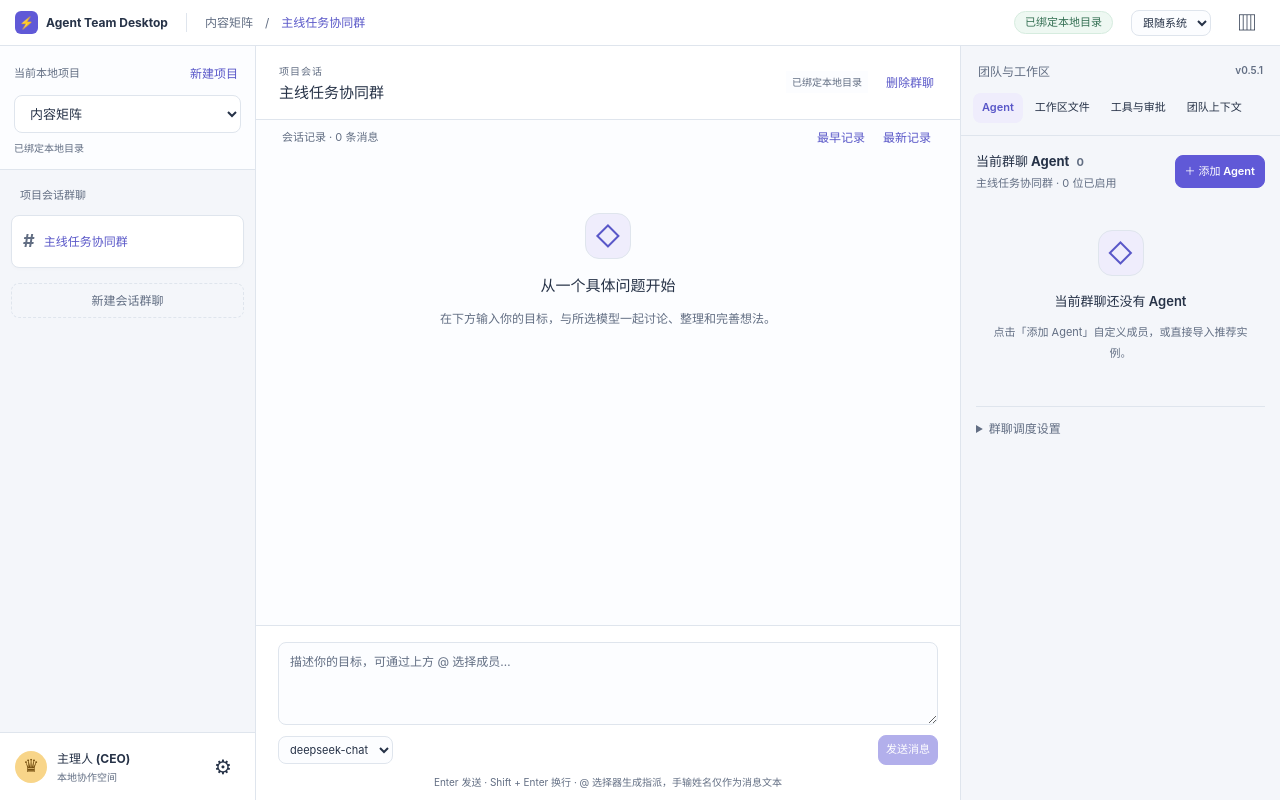
Test: waits for persisted cancellation and discards late output
Expected: the heading "主线任务协同群" is shown, [279,81,384,105]
Type "帮我分析选题" into the text box named "消息内容" at coordinates (608, 684), box [278,642,938,725]
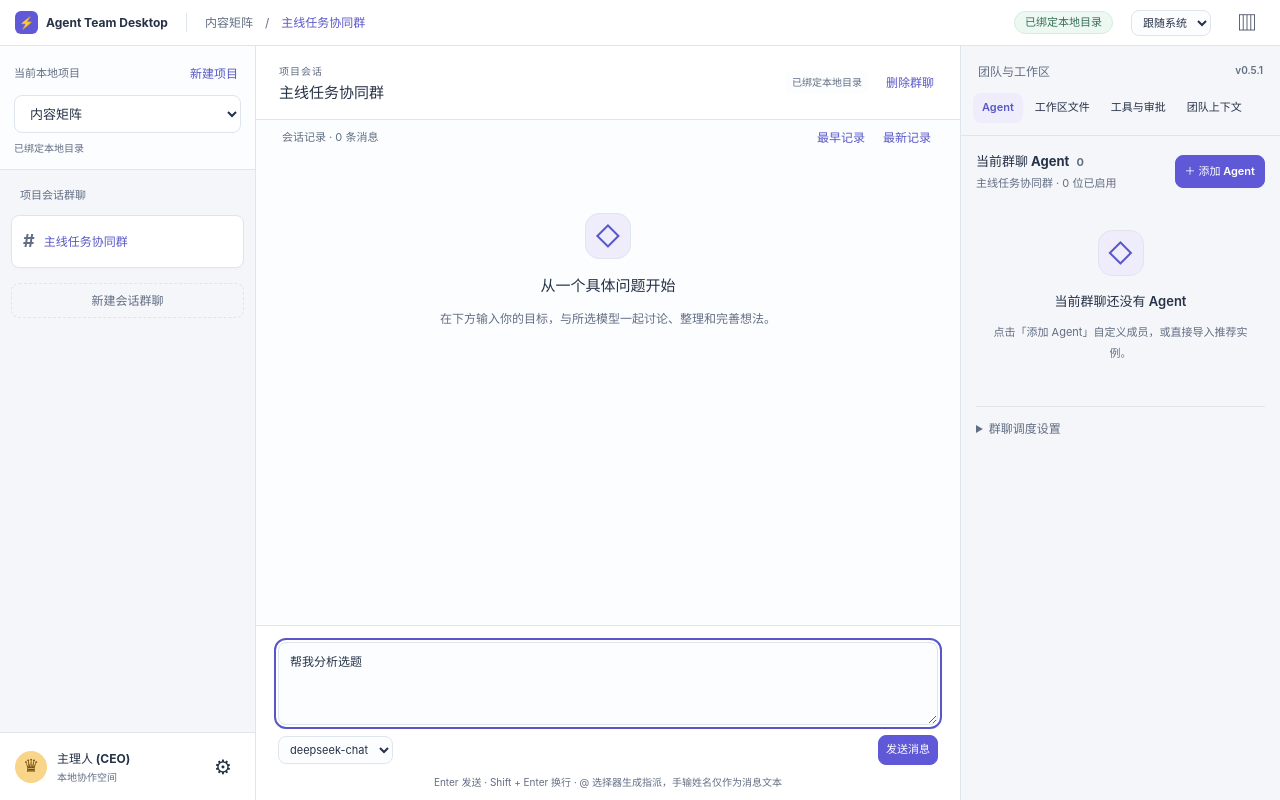
Click the button "发送消息" at coordinates (908, 750), box [878,735,938,765]
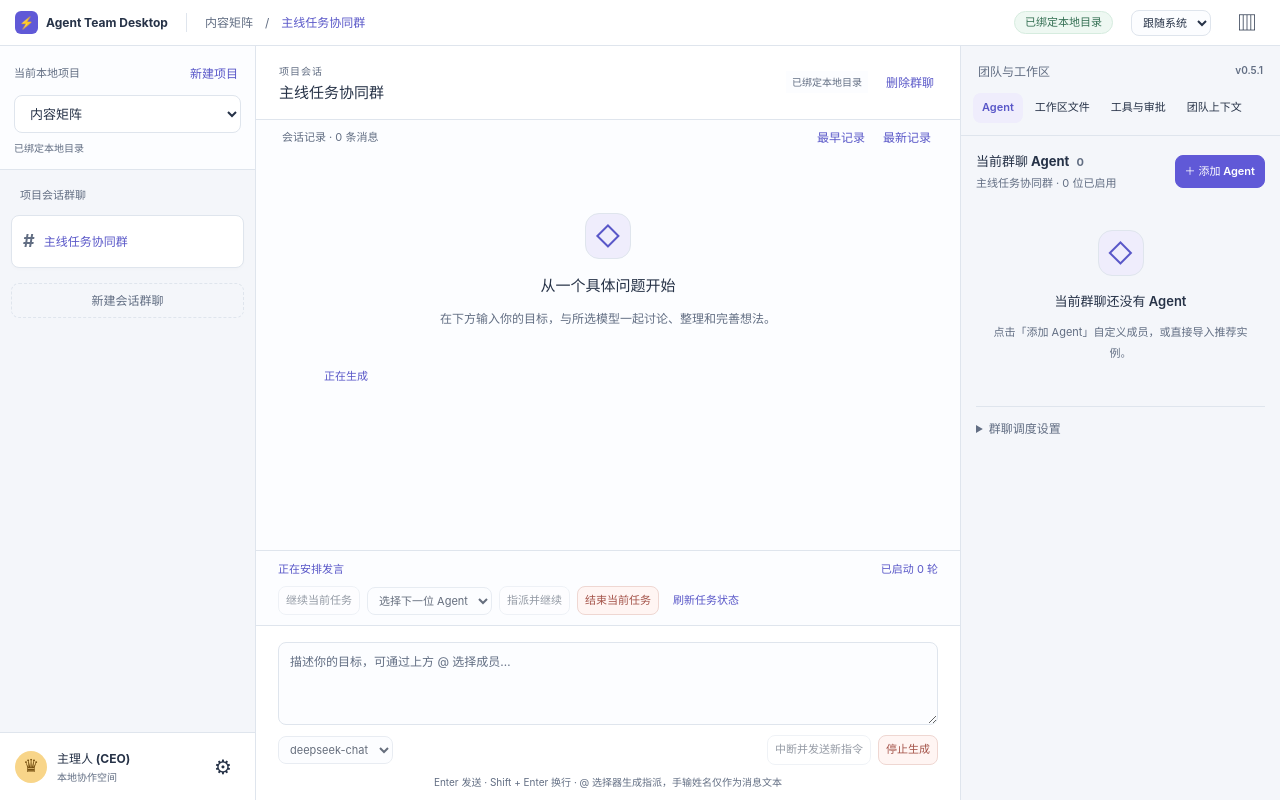
Expected: the button "停止生成" is shown
Click the button "停止生成" at coordinates (908, 750), box [878,735,938,765]
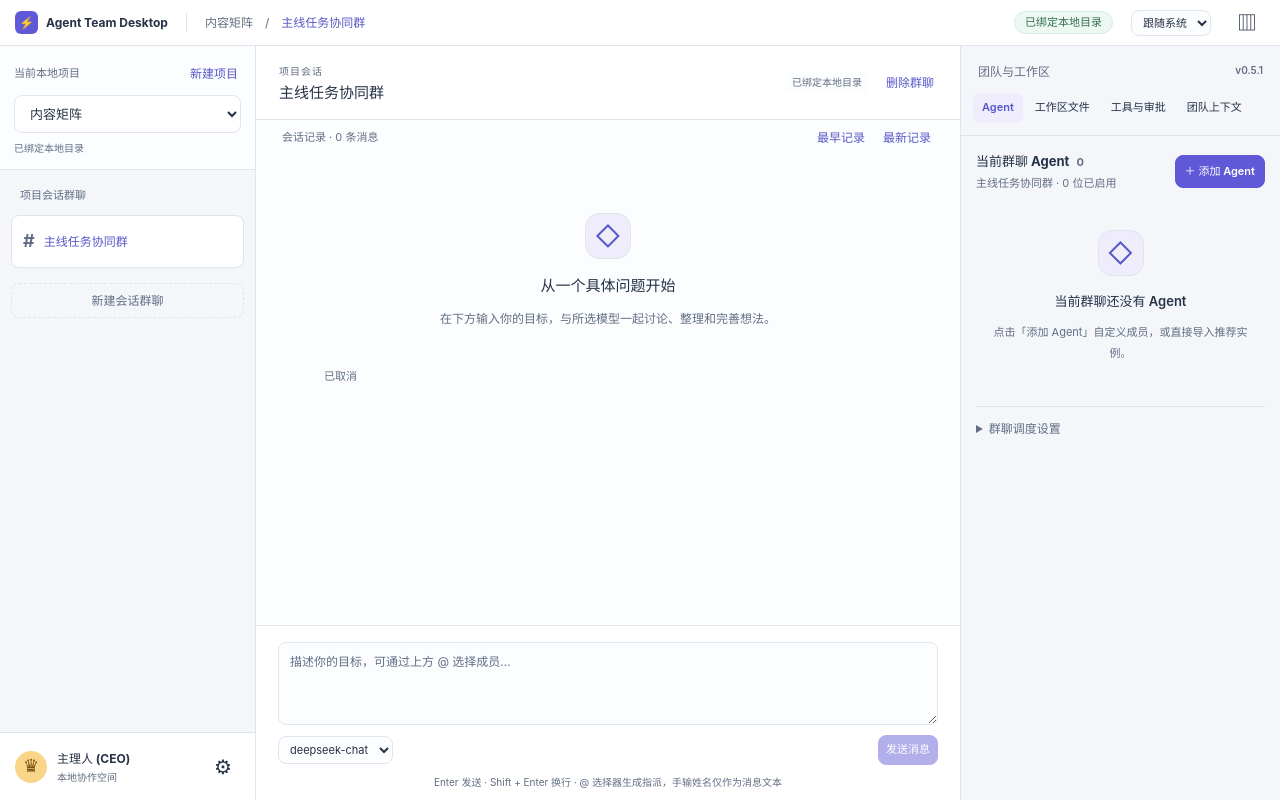
Expected: the text "已取消" is shown, [324,369,357,383]
